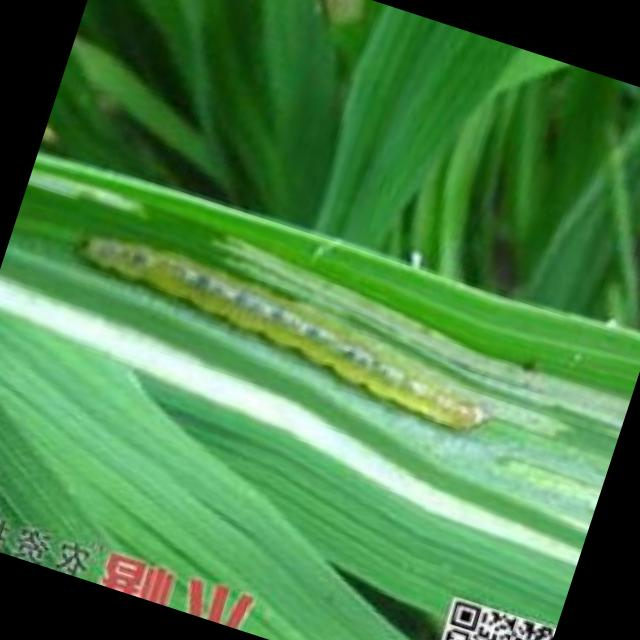leaf-folder: (54, 222, 515, 460)
